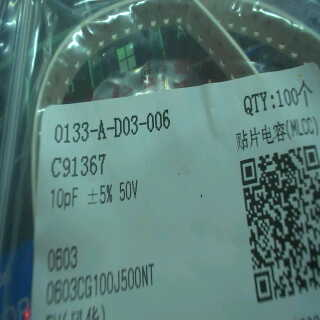10pF: (46, 182, 83, 214)
